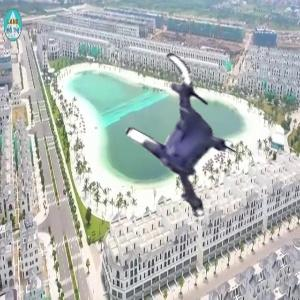drone: (105, 57, 253, 205)
